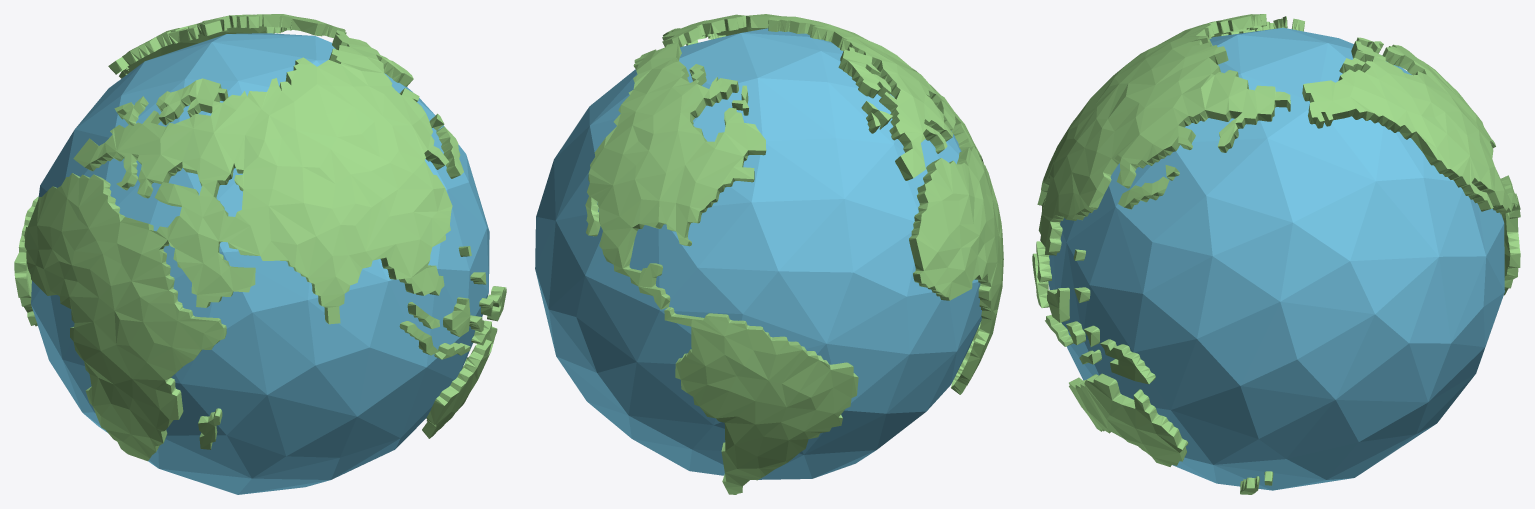
File: earth.fbx
3 renders of one model, left to right at view 1: azimuth 30°, elevation 25°; view 2: azimuth 150°, elevation 25°; view 3: azimuth 270°, elevation 25°, orthographic.
Parts seen in each view (by area): view 1: Land, Oceans; view 2: Oceans, Land; view 3: Oceans, Land.
Boxes of the visible parts, x1,y1,x2,y2 form: Land: [14, 14, 506, 461]; Oceans: [31, 33, 489, 494]; Oceans: [535, 28, 981, 479]; Land: [585, 14, 1003, 494]; Oceans: [1048, 27, 1504, 490]; Land: [1032, 14, 1520, 494].
Size of the model in its own units: 517 by 511 by 530.
